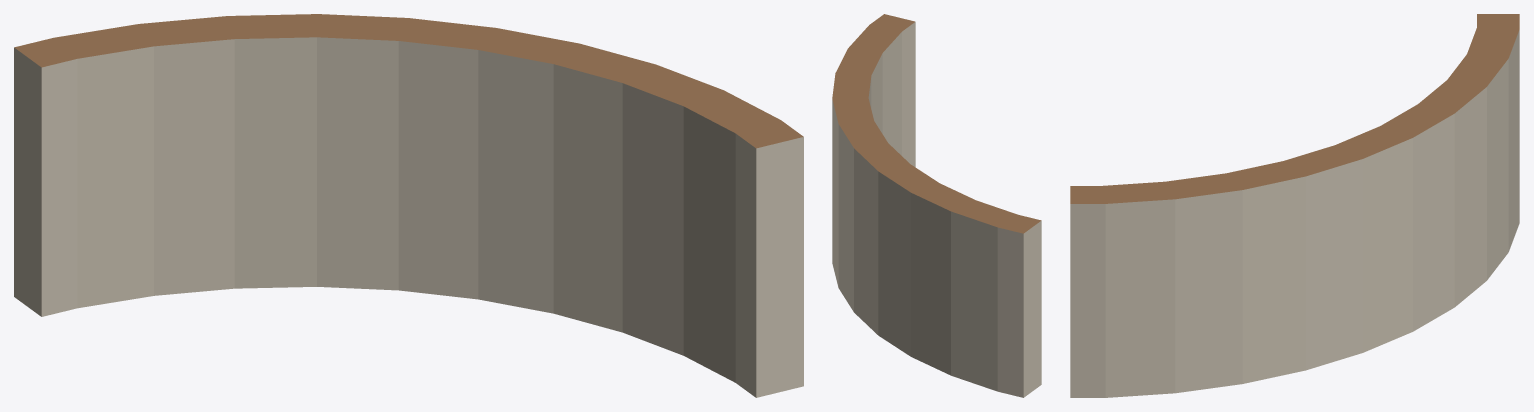
File: Wall_Curved_Large_Main.obj
3 views of the same model, side by side, from view 1: azimuth 30°, elevation 25°; view 2: azimuth 150°, elevation 25°; view 3: azimuth 270°, elevation 25° (orthographic). The views are drawn at different scales.
Visible parts, largest first — view 1: object1; view 2: object1; view 3: object1.
Part boxes in pixels (x1,y1,x2,y2): object1: (14,14,803,397); object1: (832,14,1041,397); object1: (1070,14,1519,397).
Bounding box in the file's own units: 2.1 × 1 × 2.1.
